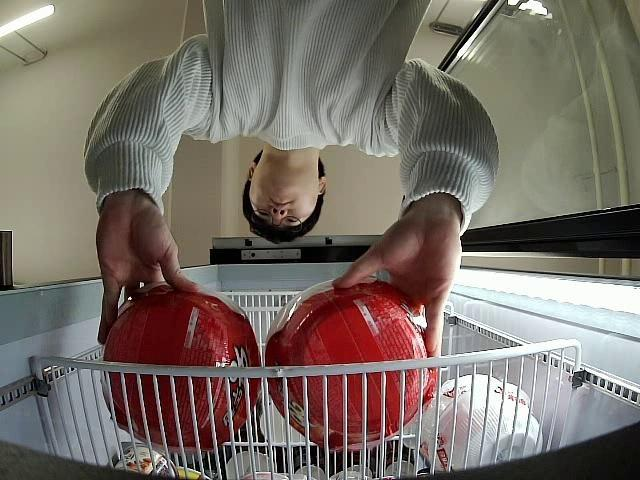10_wangTtukkeong: (264, 278, 438, 450), (99, 278, 264, 450)
